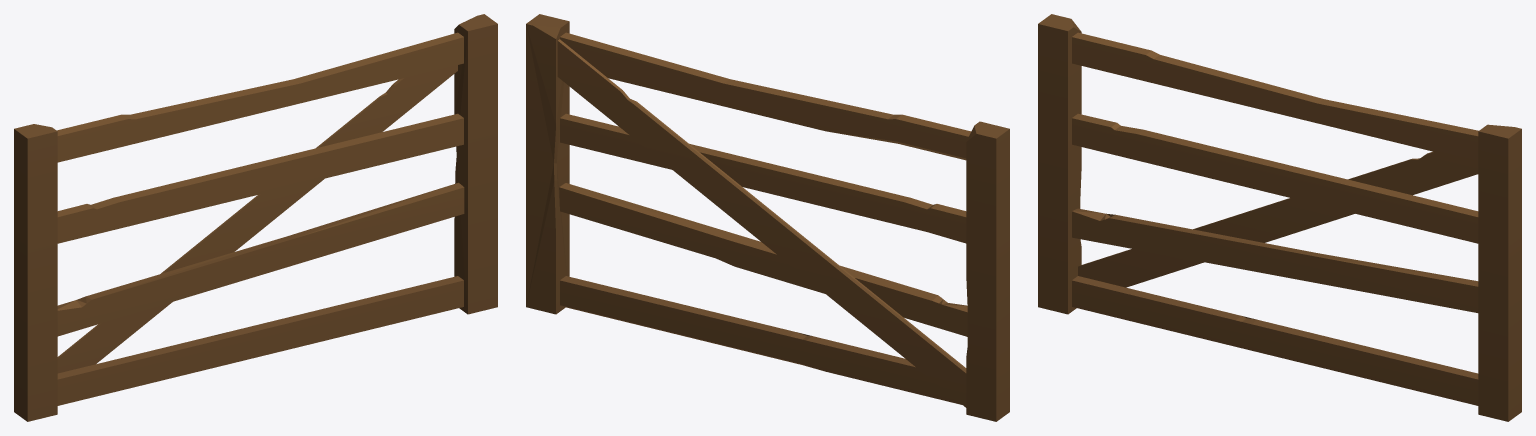
Rendered from Bld_01_Fence_Wood_Gate_Single_Long_Worned_01.obj.
3 views of the same model, side by side, from view 1: azimuth 30°, elevation 25°; view 2: azimuth 150°, elevation 25°; view 3: azimuth 330°, elevation 25° (orthographic).
Visible parts, largest first — view 1: Bld_01_Fence_Wood_Gate_Single_Long_Worned_01; view 2: Bld_01_Fence_Wood_Gate_Single_Long_Worned_01; view 3: Bld_01_Fence_Wood_Gate_Single_Long_Worned_01.
Part boxes in pixels (box(x1,y1,x2,y2)): Bld_01_Fence_Wood_Gate_Single_Long_Worned_01: box(14, 14, 497, 421); Bld_01_Fence_Wood_Gate_Single_Long_Worned_01: box(526, 14, 1009, 421); Bld_01_Fence_Wood_Gate_Single_Long_Worned_01: box(1038, 14, 1521, 421).
Size of the model in its own units: 1.8 by 1.04 by 0.0898.
Materials: 1 (1 with a texture image).
